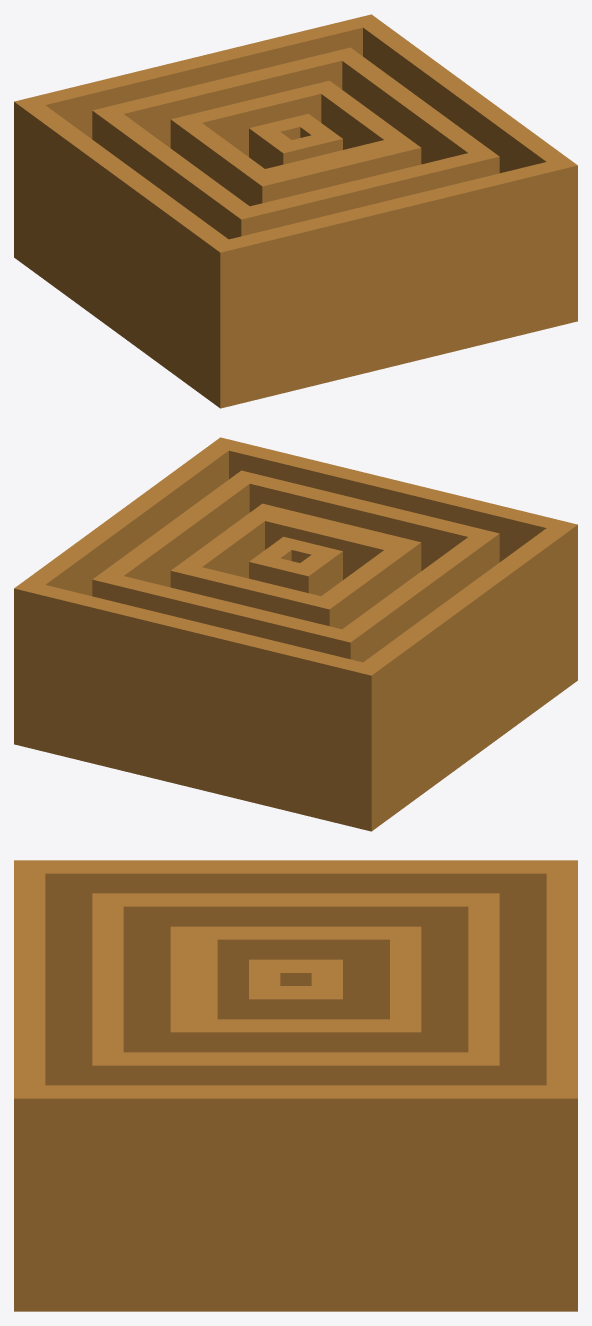
File: wood-2.obj
3 views of the same model, one above another, from view 1: azimuth 30°, elevation 25°; view 2: azimuth 150°, elevation 25°; view 3: azimuth 270°, elevation 25° (orthographic). The views are drawn at different scales.
Size of the model in its own units: 3.6 by 1.5 by 3.6.
1 material, 1 textured.
